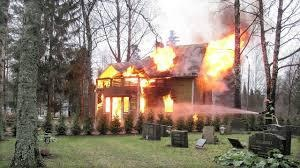fire: (94, 63, 154, 116), (199, 30, 244, 85), (149, 42, 175, 72), (162, 91, 175, 112)
